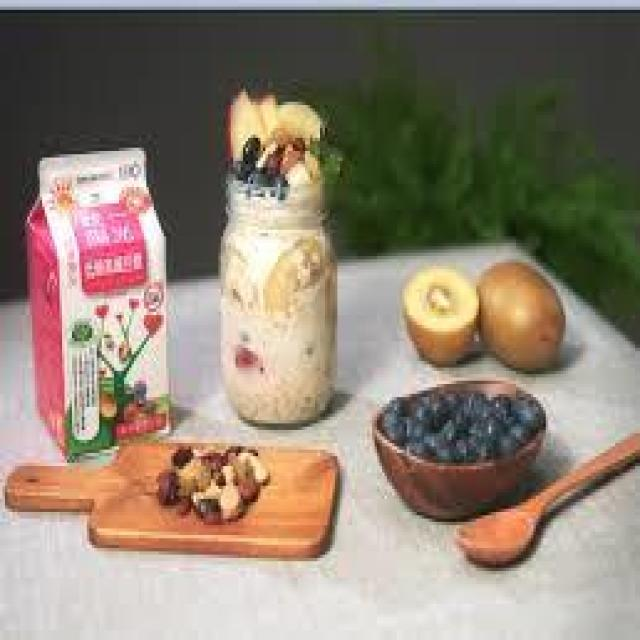TongYi_LowSugarHighFiberSoyMilk: (27, 144, 167, 458)
